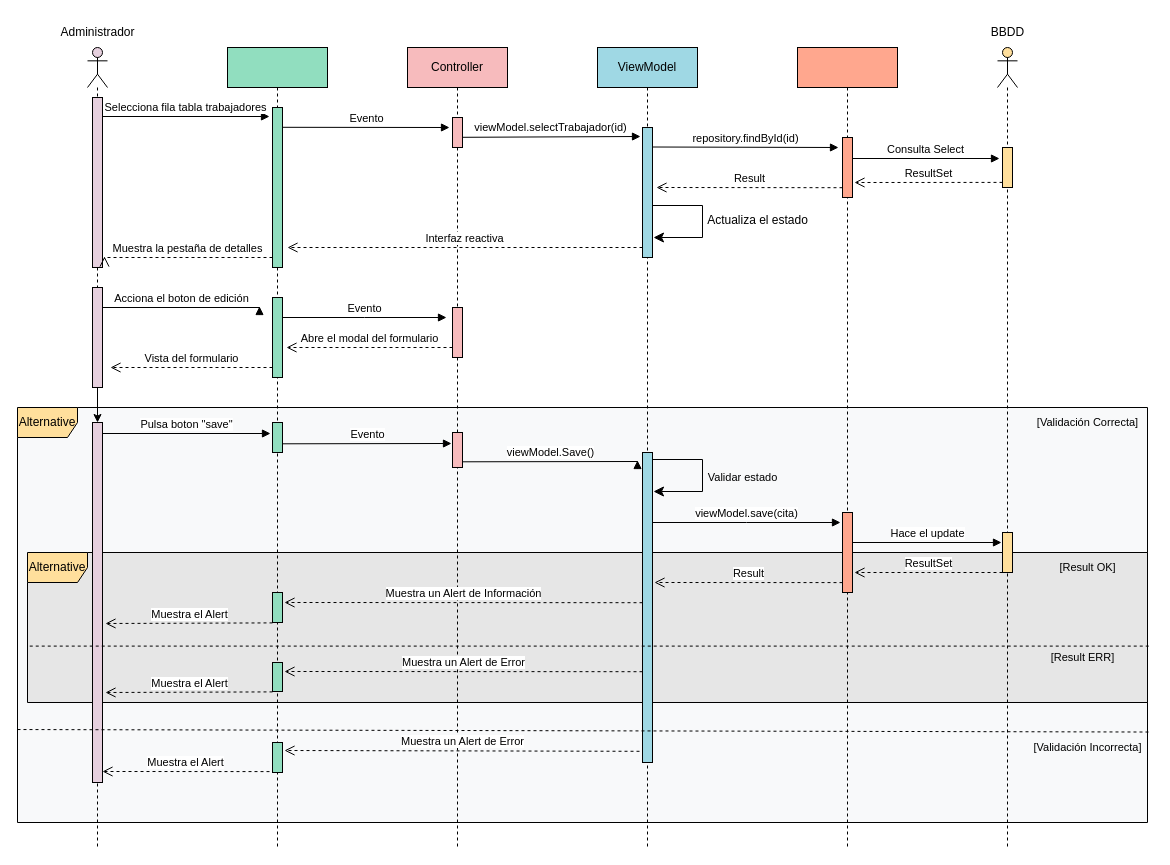
The diagram is 1170 pixels wide and 865 high, and some of its shapes have lost their labels. The box of each missing label's shape, as (x1, y1, x2, y2) in pixels:
Interfaz: (226, 46, 328, 848)
Repository: (796, 46, 898, 848)
